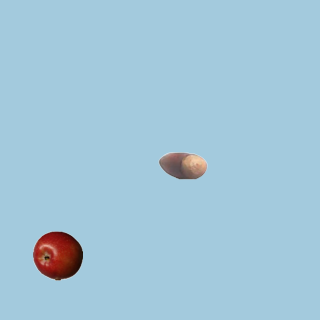Apple Braeburn: (32, 230, 82, 280)
Hazelnut: (157, 140, 207, 190)
